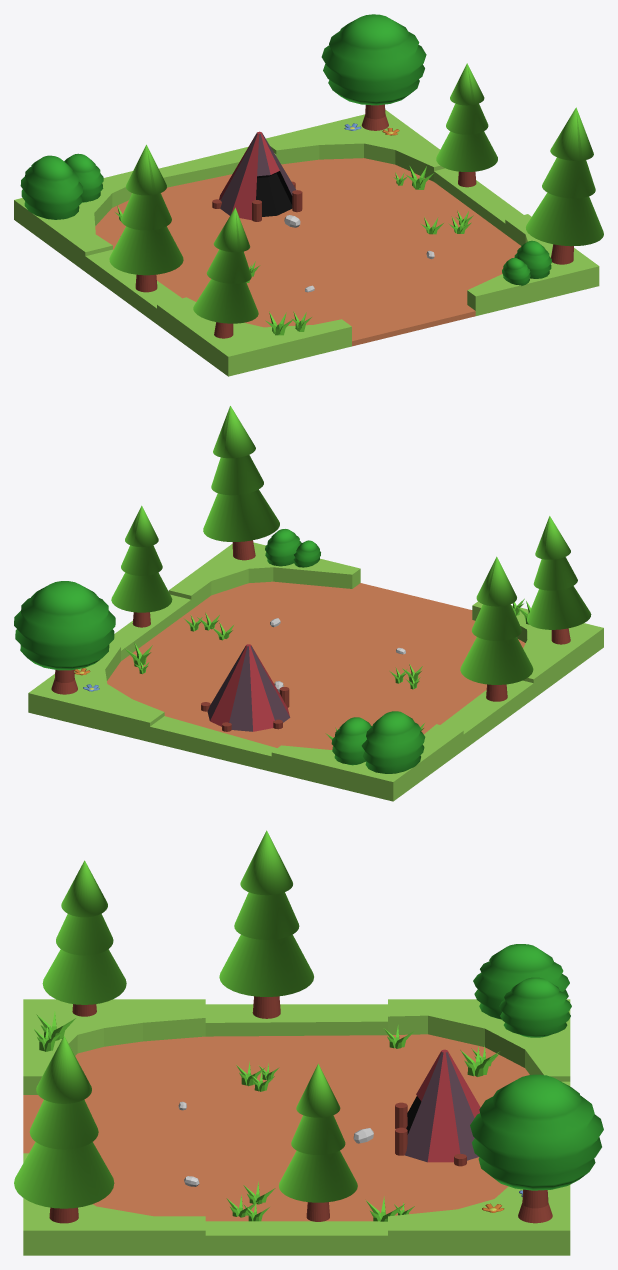
Rendered from jungle level set - 1 Way (3).fbx.
3 views of the same model, one above another, from view 1: azimuth 30°, elevation 25°; view 2: azimuth 150°, elevation 25°; view 3: azimuth 270°, elevation 25° (orthographic). The views are drawn at different scales.
Visible parts, largest first — view 1: land_platform_001, tree_004, tree_000, tree_006, tree_005, camp, tree_001, bush_003, bush_001, bush_000, bush_002; view 2: land_platform_001, tree_004, tree_000, tree_006, camp, tree_005, tree_001, bush_003, bush_001, bush_000, bush_002; view 3: land_platform_001, tree_004, tree_000, tree_006, tree_005, tree_001, camp, bush_003, bush_001.
Boxes of the visible parts, left/top/right/bottom form: land_platform_001: left=14, top=110, right=599, bottom=376; tree_004: left=321, top=14, right=426, bottom=130; tree_000: left=526, top=107, right=603, bottom=264; tree_006: left=109, top=144, right=183, bottom=292; tree_005: left=193, top=207, right=258, bottom=338; camp: left=212, top=131, right=302, bottom=221; tree_001: left=436, top=63, right=497, bottom=187; bush_003: left=20, top=155, right=82, bottom=219; bush_001: left=64, top=153, right=103, bottom=202; bush_000: left=514, top=240, right=551, bottom=278; bush_002: left=502, top=257, right=530, bottom=285; land_platform_001: left=28, top=542, right=603, bottom=801; tree_004: left=14, top=581, right=115, bottom=694; tree_000: left=203, top=406, right=279, bottom=560; tree_006: left=460, top=556, right=533, bottom=701; camp: left=201, top=644, right=290, bottom=731; tree_005: left=527, top=516, right=591, bottom=644; tree_001: left=111, top=505, right=172, bottom=627; bush_003: left=361, top=711, right=425, bottom=773; bush_001: left=331, top=717, right=371, bottom=765; bush_000: left=265, top=529, right=301, bottom=566; bush_002: left=293, top=540, right=320, bottom=567; land_platform_001: left=23, top=999, right=570, bottom=1255; tree_004: left=470, top=1074, right=603, bottom=1223; tree_000: left=14, top=1036, right=114, bottom=1223; tree_006: left=219, top=830, right=313, bottom=1018; tree_005: left=42, top=860, right=126, bottom=1016; tree_001: left=279, top=1063, right=357, bottom=1221; camp: left=395, top=1049, right=480, bottom=1166; bush_003: left=473, top=944, right=569, bottom=1019; bush_001: left=499, top=977, right=571, bottom=1037.
Bounding box in the file's own units: 16.81 × 6.64 × 16.37.
